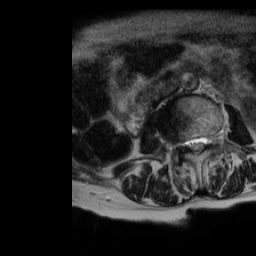CCS_normal: (193, 130, 199, 161)
LFS_normal: (207, 127, 215, 152)
LLS_normal: (199, 127, 207, 156)
RFS_stenosis: (177, 130, 185, 154)
RLS_stenosis: (185, 130, 193, 158)
